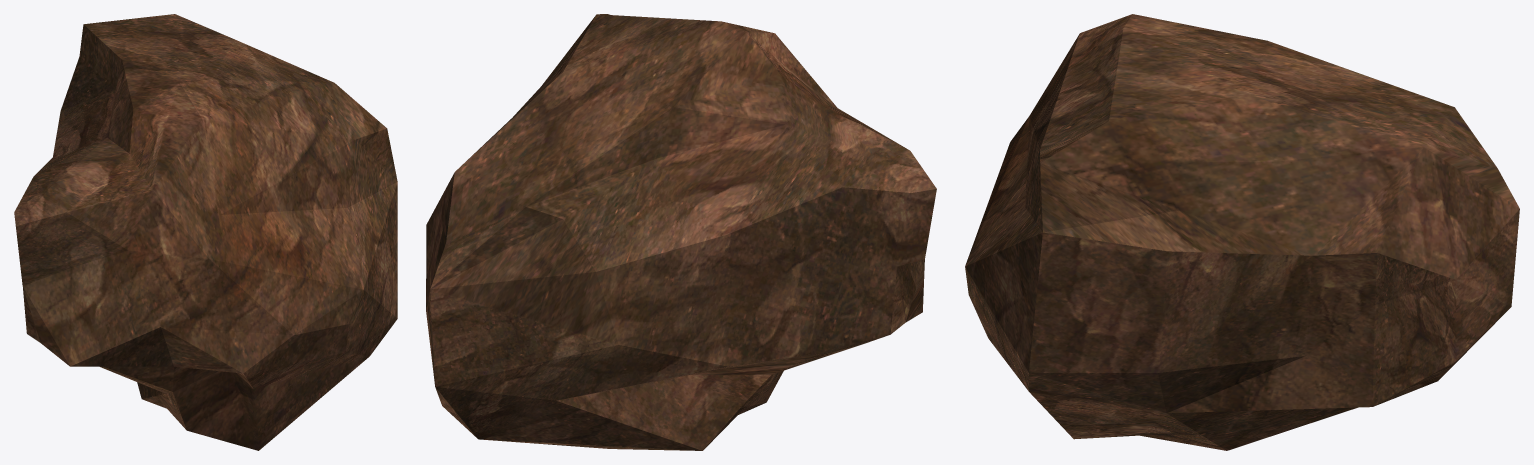
File: huodong_fuben_365shibi02.obj
3 views of the same model, side by side, from view 1: azimuth 30°, elevation 25°; view 2: azimuth 150°, elevation 25°; view 3: azimuth 270°, elevation 25° (orthographic). The views are drawn at different scales.
Visible parts, largest first — view 1: huodong_fuben_365shibi02; view 2: huodong_fuben_365shibi02; view 3: huodong_fuben_365shibi02.
Part boxes in pixels (left/top/right/bottom): huodong_fuben_365shibi02: left=14, top=14, right=397, bottom=450; huodong_fuben_365shibi02: left=426, top=14, right=936, bottom=450; huodong_fuben_365shibi02: left=965, top=14, right=1519, bottom=450.
Size of the model in its own units: 195 by 189 by 239.
Materials: 1 (1 with a texture image).
